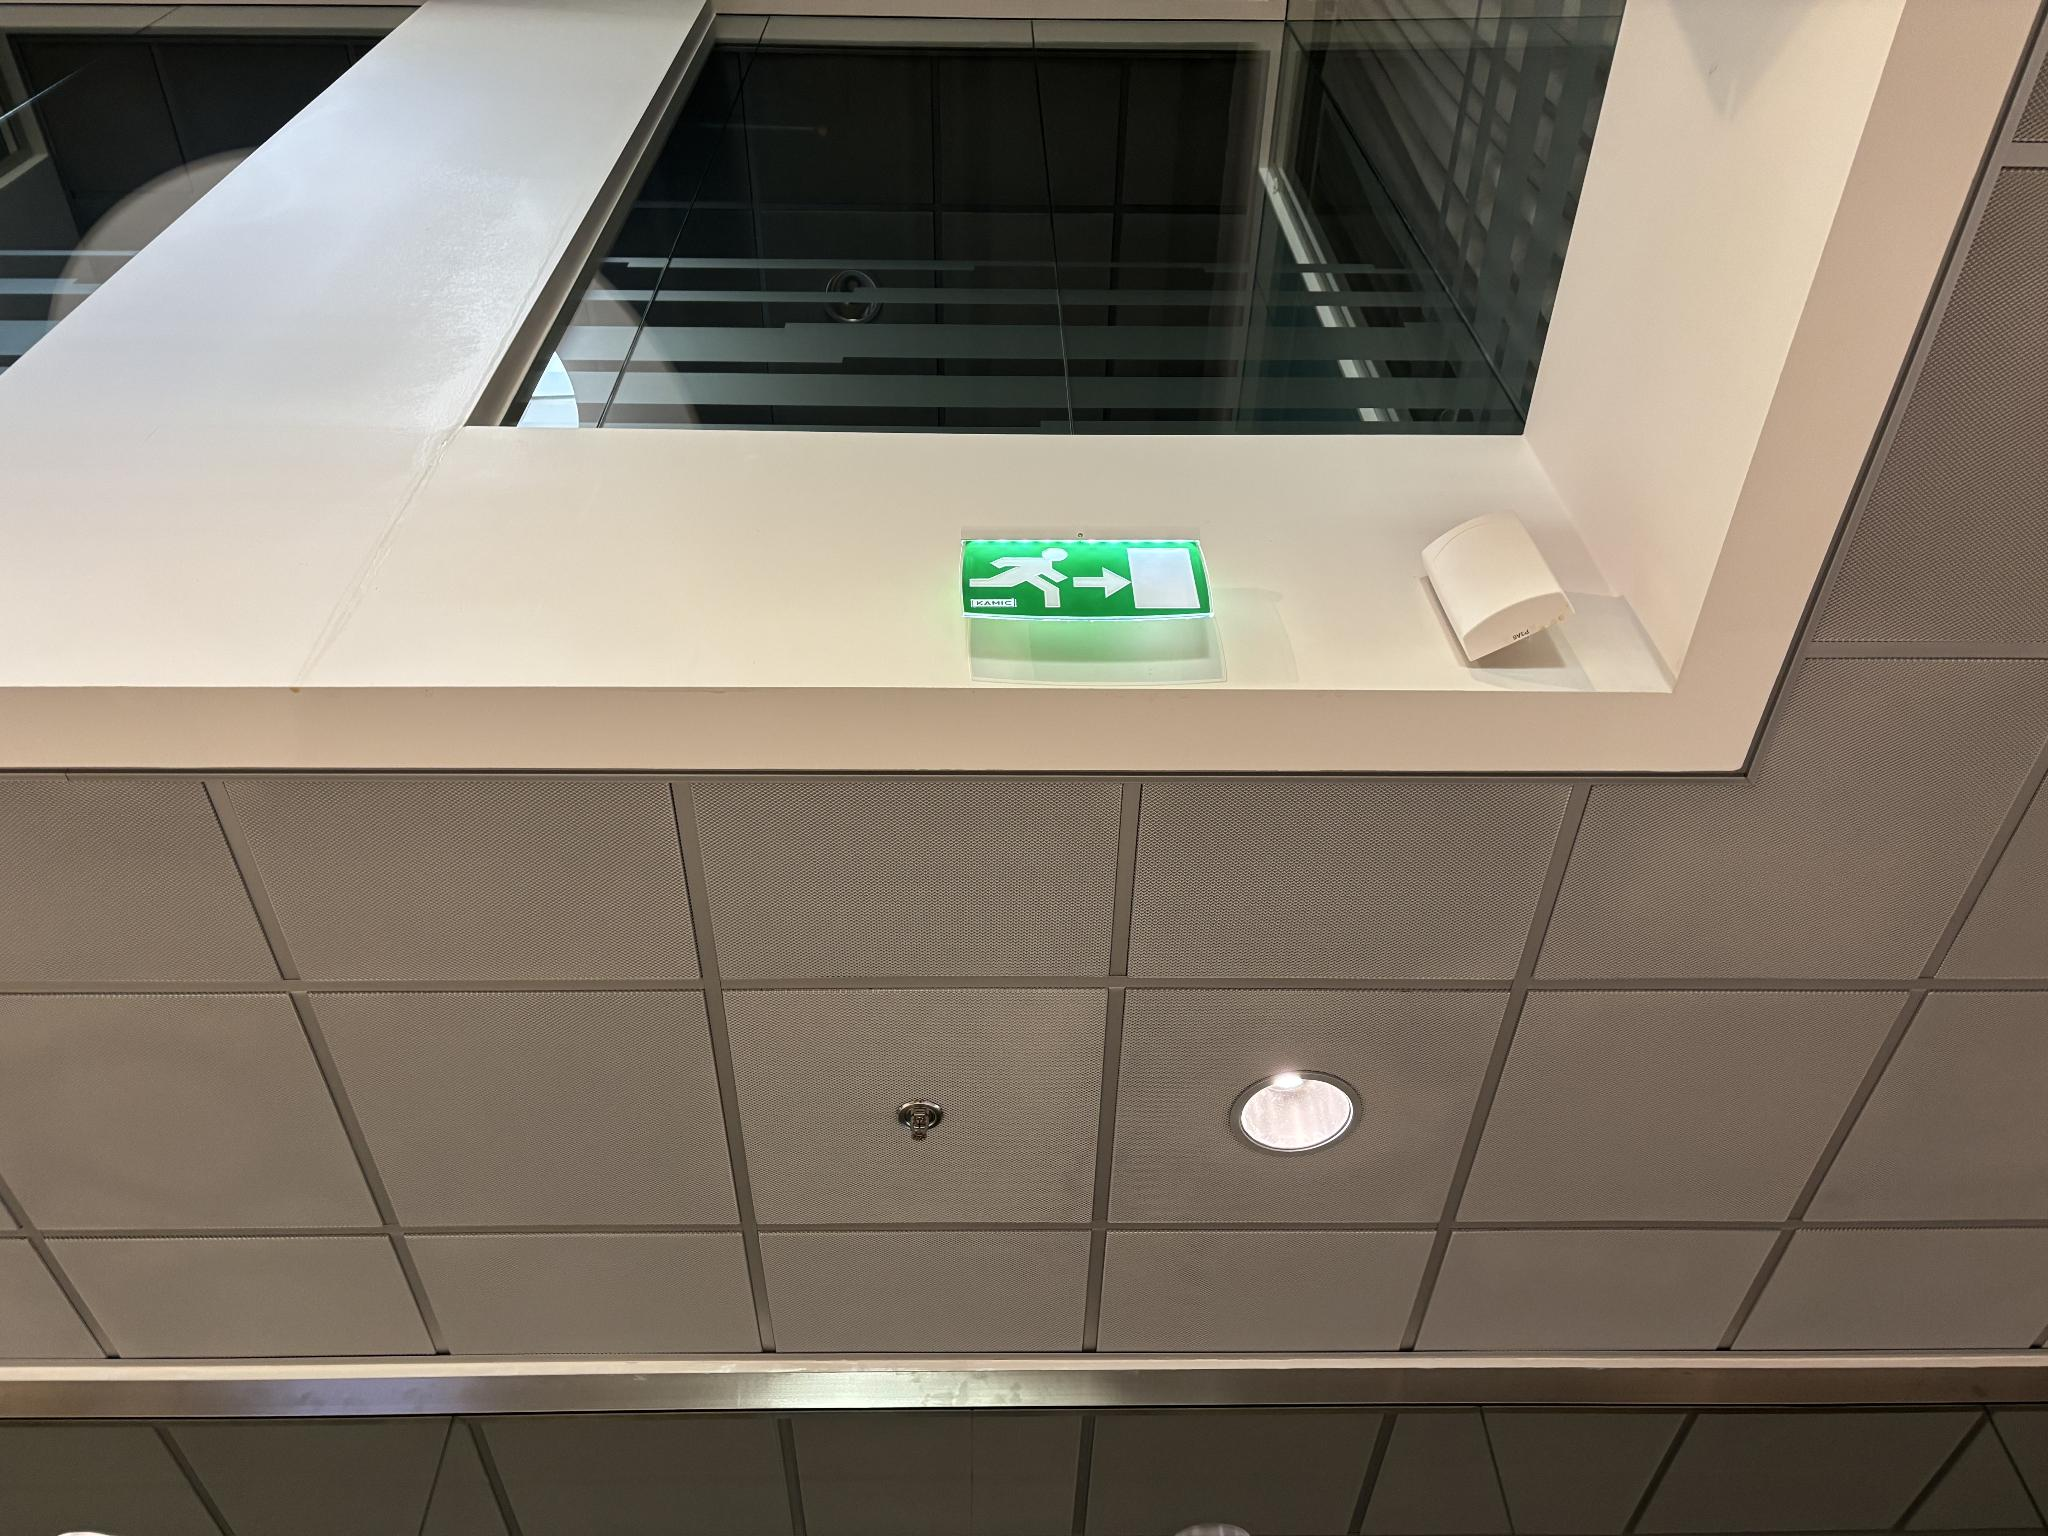exit_sign: (953, 528, 1214, 621)
